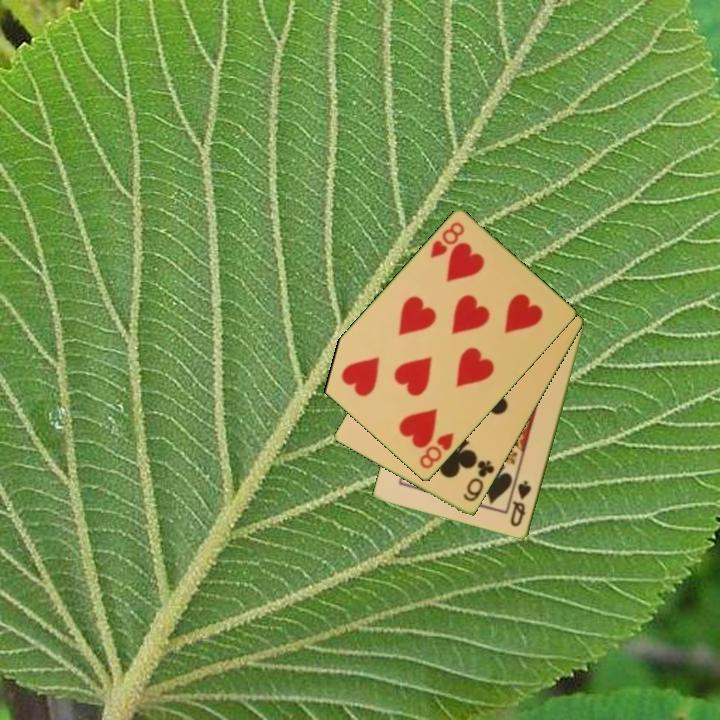6c: (460, 457, 498, 505)
8h: (416, 429, 457, 472), (426, 219, 467, 262)
Qs: (507, 477, 534, 530)
